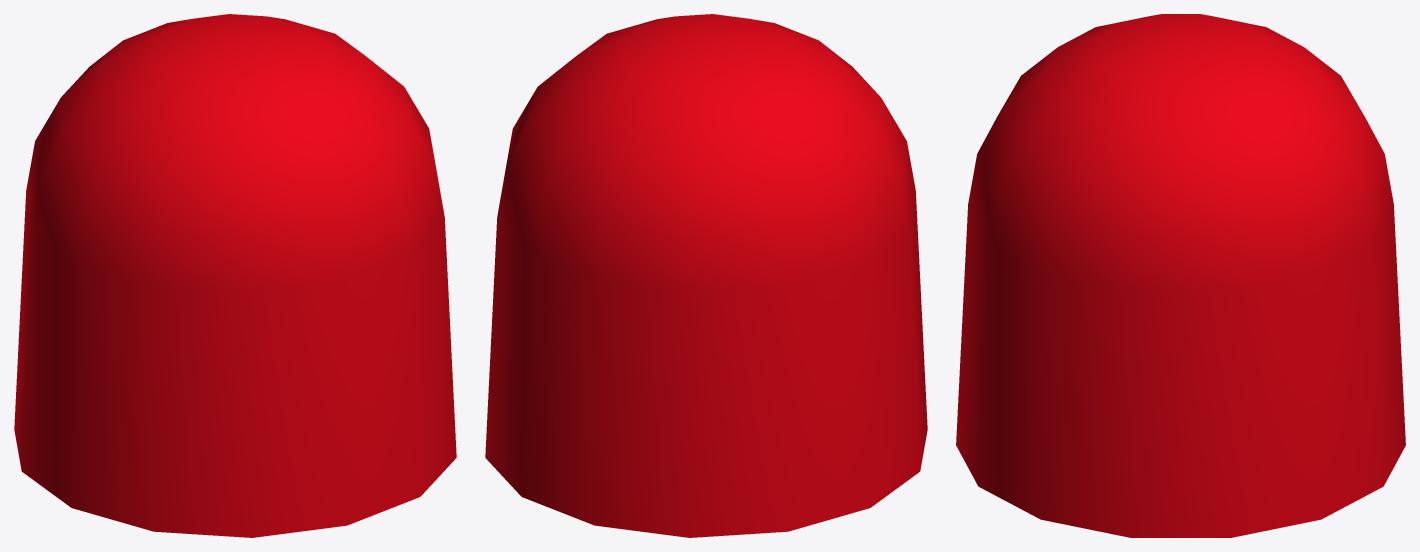
The model's file is Alarm.fbx.
The picture shows the model from 3 angles, left to right: view 1: azimuth 30°, elevation 25°; view 2: azimuth 150°, elevation 25°; view 3: azimuth 270°, elevation 25°; orthographic projection.
Visible parts, largest first — view 1: Alarm; view 2: Alarm; view 3: Alarm.
Boxes of the visible parts, x1,y1,x2,y2 form: Alarm: (14, 14, 456, 537); Alarm: (485, 14, 927, 537); Alarm: (956, 14, 1405, 537).
Bounding box in the file's own units: 195 × 198 × 200.
